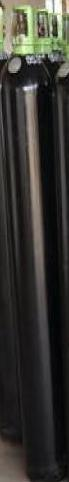cylinder: (0, 1, 69, 482)
